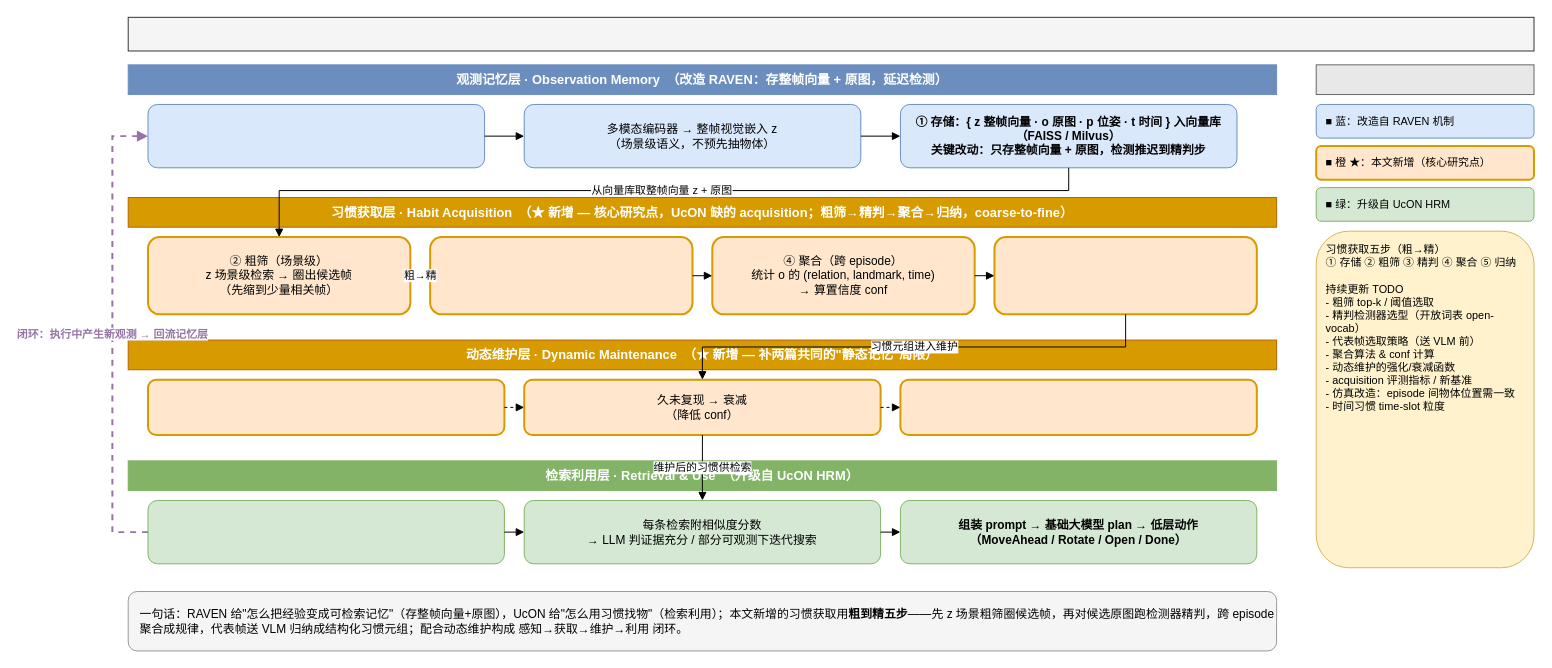
Image size: 1552x668. Some labels were removed from this diagram. The box of each missing label's shape, as (x1, y1, x2, y2) in pixels:
RAVEN × UcON · 习惯构建架构（感知·存储 → 习惯获取[粗→精五步] → 动态维护 → 检索利用 闭环） v0.2: (127, 16, 1534, 51)
③ 精判（实例级） 候选帧原图 → 检测器 → 哪些帧含 o、bbox、共现物体: (429, 236, 693, 315)
⑤ 归纳 代表帧送 VLM → 结构化习惯元组 (o, relation, landmark, time, conf): (993, 236, 1257, 315)
位置变化 → 触发剪枝 / 改写 （应对物体挪位的高动态场景）: (899, 378, 1257, 436)
图例 & 持续更新区: (1315, 64, 1534, 95)
新证据 → 强化 （提升 conf）: (147, 378, 505, 436)
目标 o → 多工具检索 text / position / time（升级单一 BGE-M3）: (147, 499, 504, 564)
采集 egocentric RGB 帧 （探索 / 日常服务过程中）: (147, 103, 485, 168)
